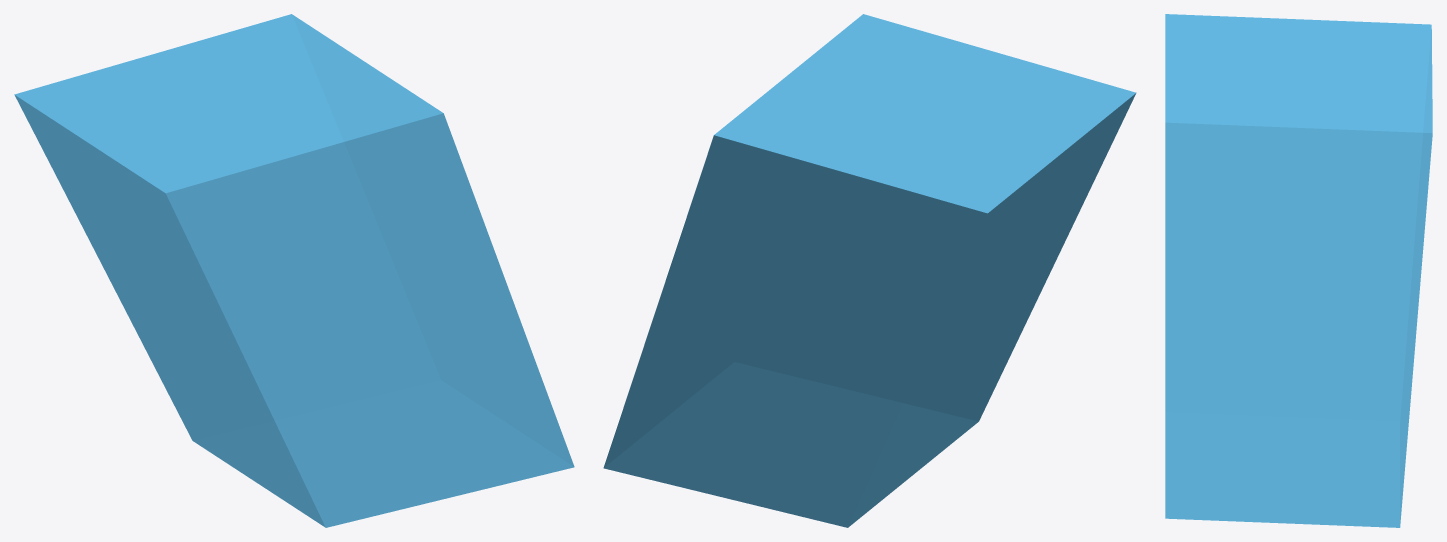
The model's file is Event_421127236_HBrechit_4.fbx.
The picture shows the model from 3 angles, left to right: view 1: azimuth 30°, elevation 25°; view 2: azimuth 150°, elevation 25°; view 3: azimuth 270°, elevation 25°; orthographic projection. The views are drawn at different scales.
Parts seen in each view (by area): view 1: Model; view 2: Model; view 3: Model.
Boxes of the visible parts, x1=… form: Model: x1=14, y1=14, x2=574, y2=527; Model: x1=603, y1=14, x2=1136, y2=527; Model: x1=1165, y1=14, x2=1432, y2=527.
Bounding box in the file's own units: 0.7101 × 0.6579 × 0.4571.
